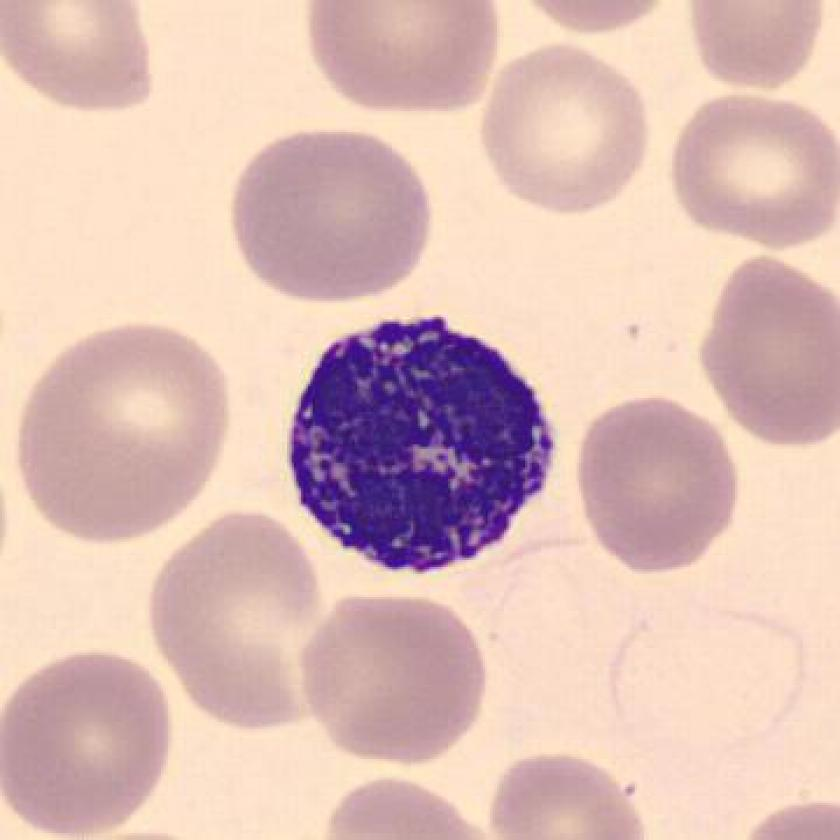basophil: (276, 302, 559, 582)
